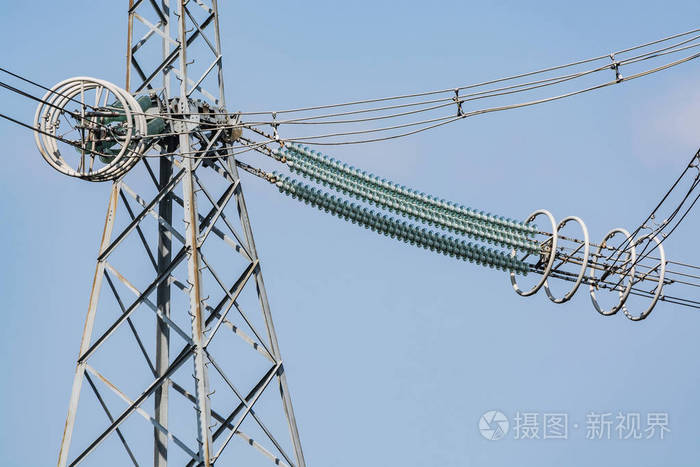insulator: (275, 138, 538, 279)
